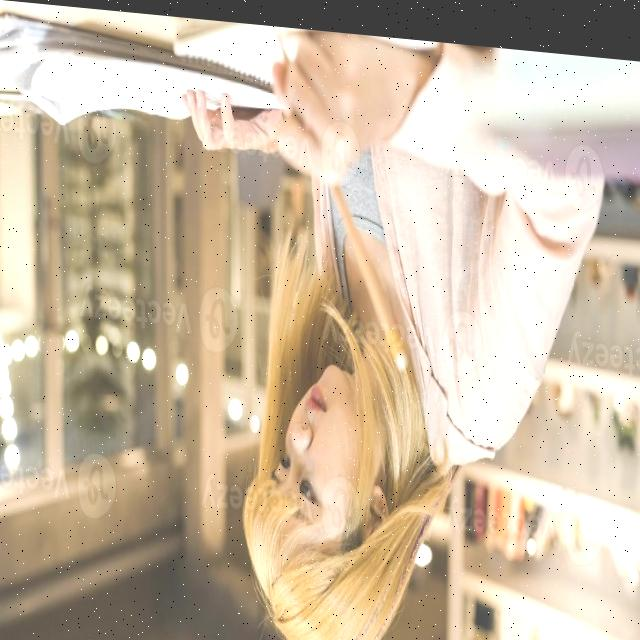studying-person: (163, 12, 608, 640)
